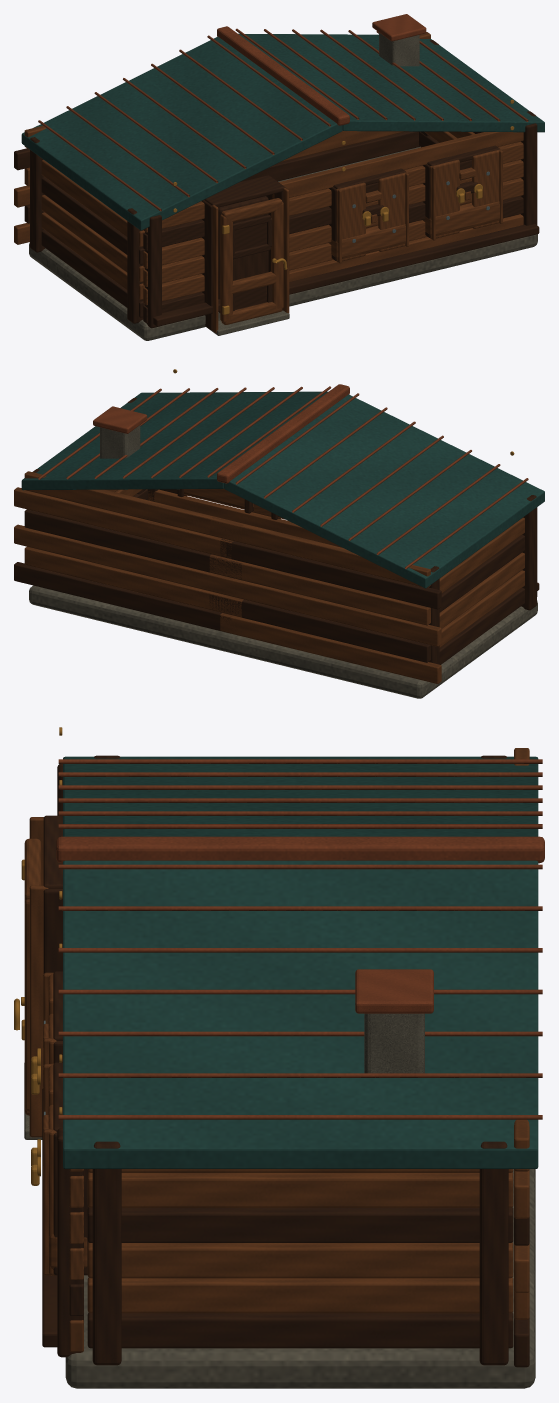
File: asset.glb
3 renders of one model, top to bottom at view 1: azimuth 30°, elevation 25°; view 2: azimuth 150°, elevation 25°; view 3: azimuth 270°, elevation 25°, orthographic. The views are drawn at different scales.
Visible parts, largest first — view 1: MaterialBatch_Oxidised_copper_roofing, MaterialBatch_Quarter-sawn_oak, MaterialBatch_Smoke-stained_walnut, MaterialBatch_Weathered_copper, MaterialBatch_Mottled_fieldstone, MaterialBatch_Aged_brass; view 2: MaterialBatch_Oxidised_copper_roofing, MaterialBatch_Quarter-sawn_oak, MaterialBatch_Smoke-stained_walnut, MaterialBatch_Mottled_fieldstone, MaterialBatch_Weathered_copper; view 3: MaterialBatch_Oxidised_copper_roofing, MaterialBatch_Quarter-sawn_oak, MaterialBatch_Smoke-stained_walnut, MaterialBatch_Weathered_copper, MaterialBatch_Mottled_fieldstone, MaterialBatch_Aged_brass.
Part boxes in pixels (x1,y1,x2,y2): MaterialBatch_Oxidised_copper_roofing: (21,33,544,230); MaterialBatch_Quarter-sawn_oak: (14,32,523,333); MaterialBatch_Smoke-stained_walnut: (14,40,539,330); MaterialBatch_Weathered_copper: (38,14,528,211); MaterialBatch_Mottled_fieldstone: (29,32,537,340); MaterialBatch_Aged_brass: (173,99,514,314); MaterialBatch_Oxidised_copper_roofing: (21,391,544,588); MaterialBatch_Quarter-sawn_oak: (14,471,524,683); MaterialBatch_Smoke-stained_walnut: (14,398,539,664); MaterialBatch_Mottled_fieldstone: (29,425,537,698); MaterialBatch_Weathered_copper: (38,384,528,569); MaterialBatch_Oxidised_copper_roofing: (63,756,538,1168); MaterialBatch_Quarter-sawn_oak: (24,748,529,1352); MaterialBatch_Smoke-stained_walnut: (42,755,529,1367); MaterialBatch_Weathered_copper: (56,759,544,1119); MaterialBatch_Mottled_fieldstone: (24,1013,535,1388); MaterialBatch_Aged_brass: (14,727,62,1185).
Size of the model in its own units: 17.64 by 7.2 by 9.61.
Materials: 8 (8 with a texture image).
